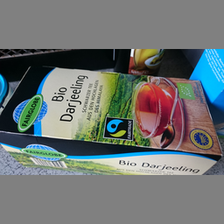tea: (1, 64, 222, 174)
